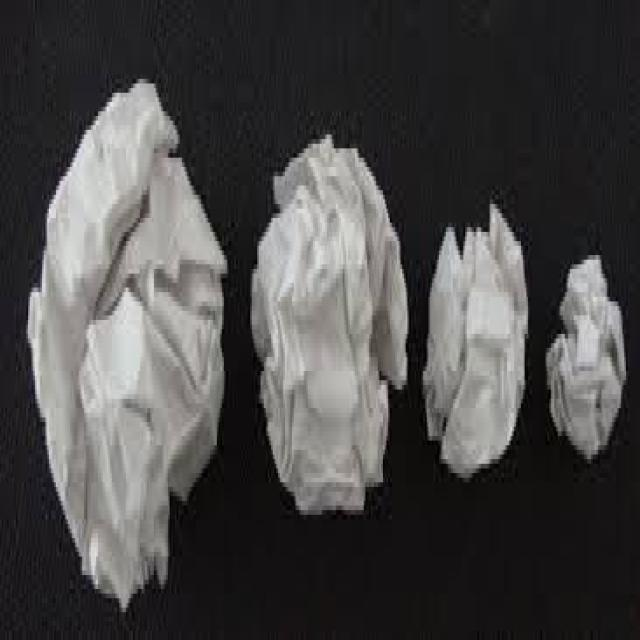crampled paper: (251, 136, 407, 512)
